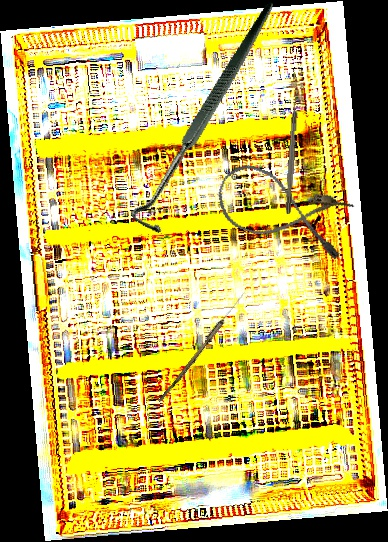Cannula: (208, 157, 358, 264)
Hook Surgical: (74, 1, 344, 241), (284, 90, 300, 215)
Surgical Spoon: (158, 289, 247, 405)
